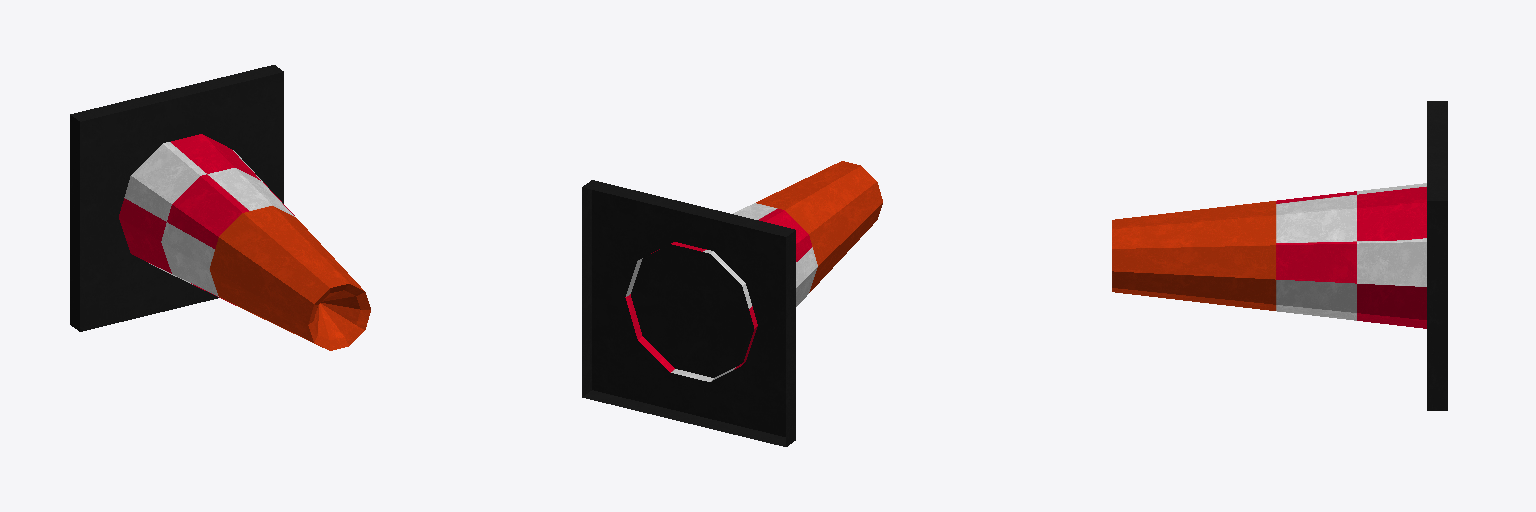
3 renders of one model, left to right at view 1: azimuth 30°, elevation 25°; view 2: azimuth 150°, elevation 25°; view 3: azimuth 270°, elevation 25°, orthographic.
Bounding box in the file's own units: 48.65 × 47.83 × 69.13.
1 materials, 1 textured.